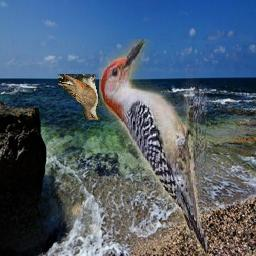Cuckoo: (58, 74, 100, 120)
Woodpecker: (99, 40, 207, 255)
